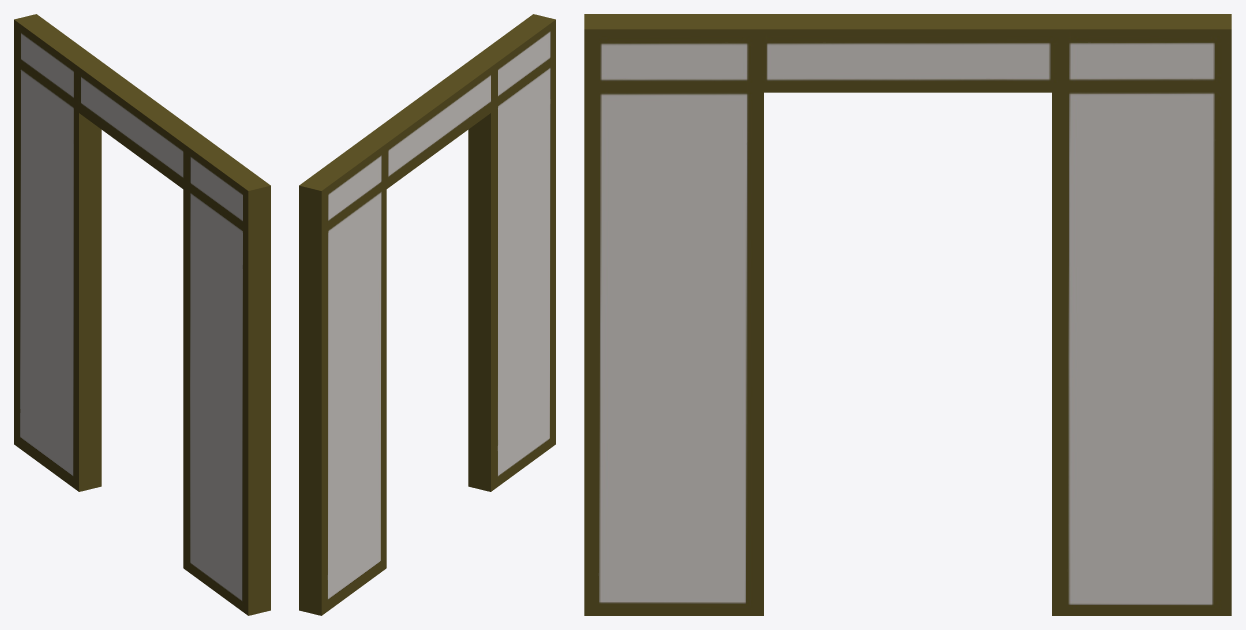
File: wall02_1.fbx
3 renders of one model, left to right at view 1: azimuth 30°, elevation 25°; view 2: azimuth 150°, elevation 25°; view 3: azimuth 270°, elevation 25°, orthographic. The views are drawn at different scales.
Visible parts, largest first — view 1: pCube1; view 2: pCube1; view 3: pCube1.
Boxes of the visible parts, box(x1,y1,x2,y2) form: pCube1: box(14, 14, 270, 615); pCube1: box(299, 14, 555, 615); pCube1: box(584, 14, 1231, 615).
Bounding box in the file's own units: 0.5 × 9 × 9.
1 material, 1 textured.
